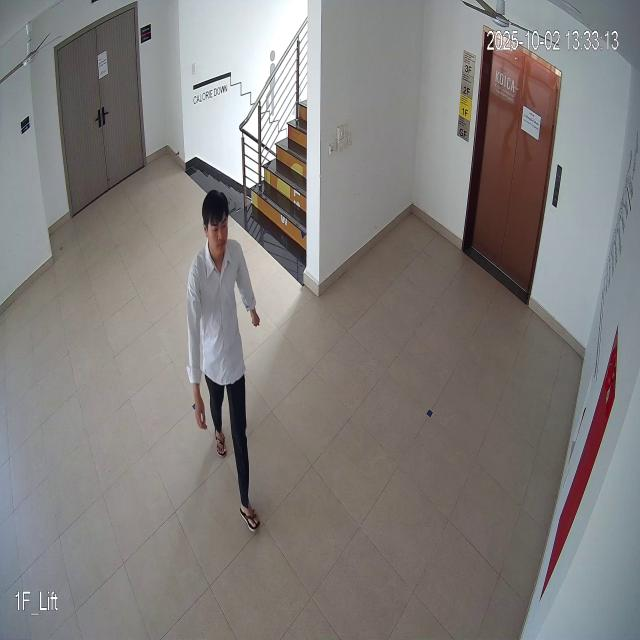face: (201, 186, 236, 258)
